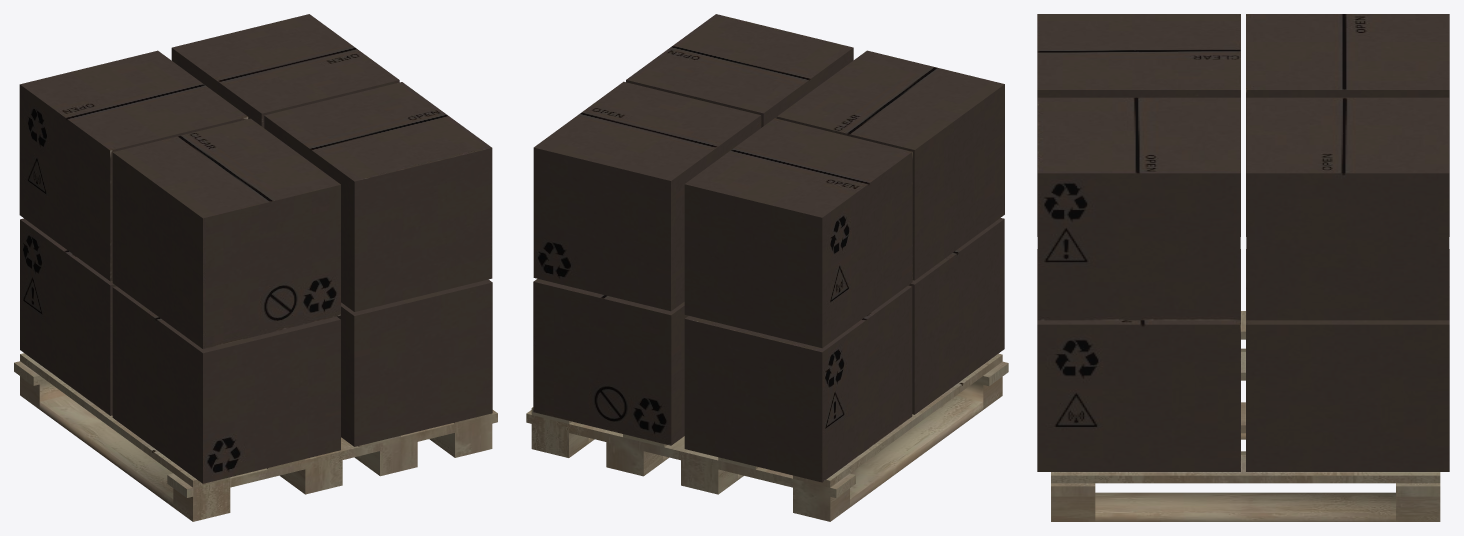
3 renders of one model, left to right at view 1: azimuth 30°, elevation 25°; view 2: azimuth 150°, elevation 25°; view 3: azimuth 270°, elevation 25°, orthographic. The views are drawn at different scales.
Parts seen in each view (by area): view 1: Плоскость.002; view 2: Плоскость.002; view 3: Плоскость.002.
Boxes of the visible parts, x1,y1,x2,y2 form: Плоскость.002: (14,14,497,521); Плоскость.002: (526,14,1008,521); Плоскость.002: (1037,14,1449,521).
Size of the model in its own units: 7.66 by 7.23 by 7.81.
1 material, 1 textured.
